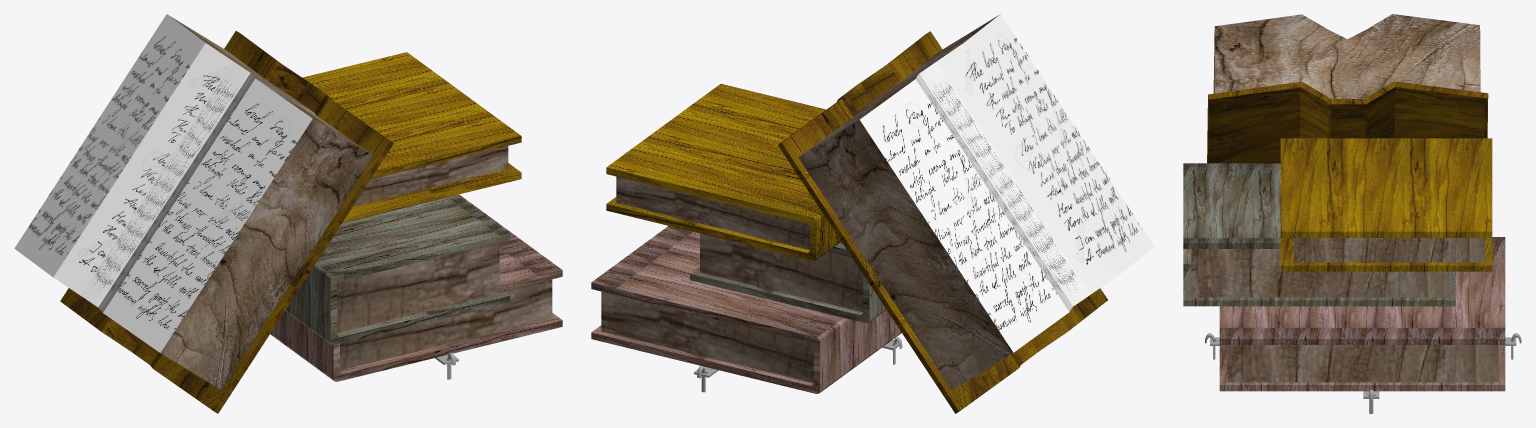
File: book.glb
3 renders of one model, left to right at view 1: azimuth 30°, elevation 25°; view 2: azimuth 150°, elevation 25°; view 3: azimuth 270°, elevation 25°, orthographic. The views are drawn at different scales.
Visible parts, largest first — view 1: Node; view 2: Node; view 3: Node.
Part boxes in pixels (<box>): Node: <box>14,14,562,413</box>; Node: <box>591,14,1154,413</box>; Node: <box>1183,14,1521,413</box>.
Bounding box in the file's own units: 242 × 162 × 179.
Materials: 7 (6 with a texture image).
